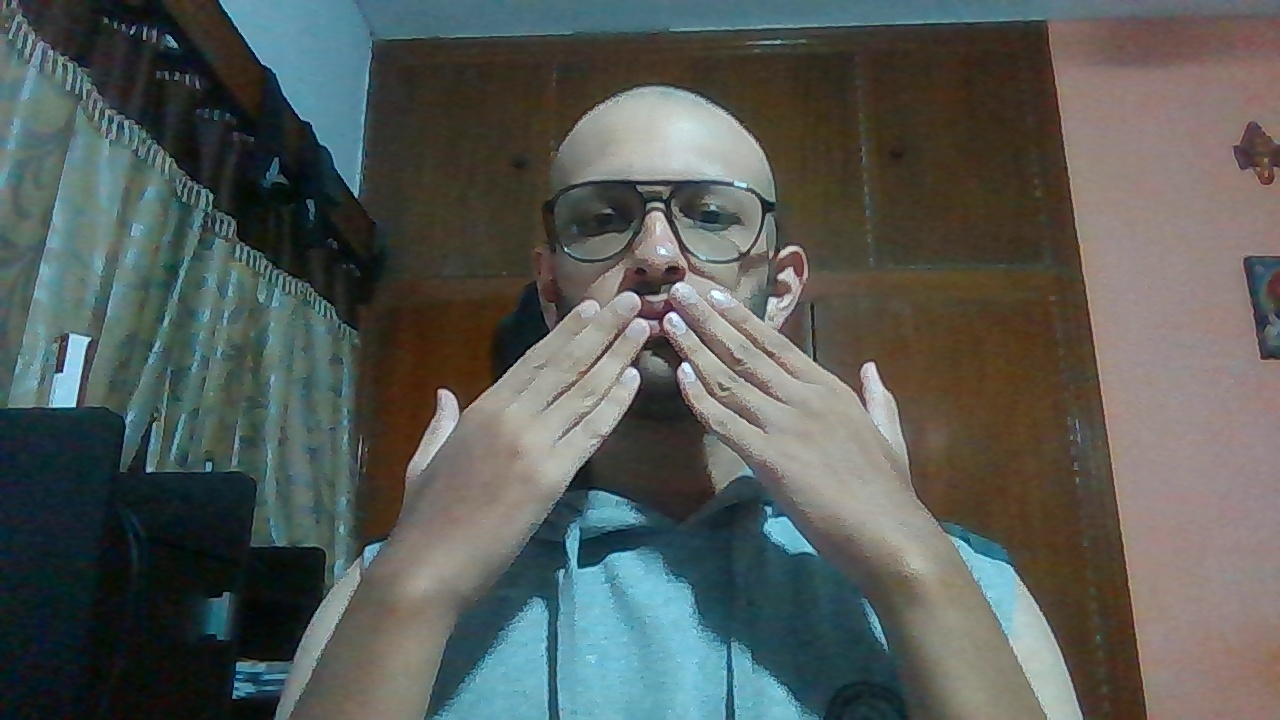Thank You: (394, 284, 935, 541)
